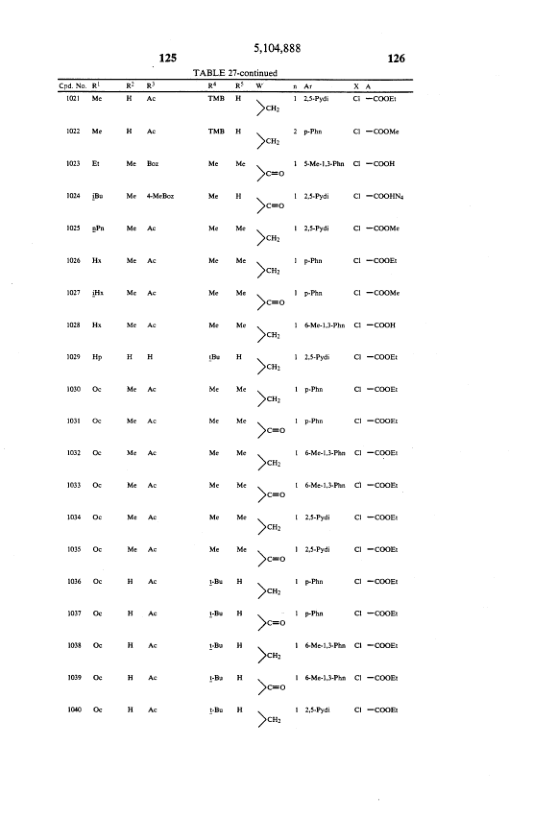compound-structure: (349, 601, 401, 620), (352, 701, 404, 718), (251, 548, 288, 571), (254, 675, 291, 698), (248, 161, 288, 182), (354, 382, 399, 399), (355, 478, 400, 495), (356, 638, 403, 654), (254, 578, 284, 603), (354, 415, 399, 431), (349, 192, 408, 204), (254, 514, 283, 538), (352, 449, 400, 463), (252, 483, 284, 504), (352, 512, 400, 526), (353, 670, 401, 684), (251, 224, 280, 247), (349, 95, 400, 108), (254, 131, 284, 153), (352, 255, 400, 268), (351, 350, 399, 363), (355, 574, 399, 588), (249, 99, 281, 118), (353, 319, 396, 333), (254, 612, 284, 632), (257, 642, 283, 665), (256, 422, 288, 440), (254, 295, 284, 314), (255, 196, 286, 214), (254, 450, 280, 471), (354, 545, 399, 557), (353, 288, 401, 299), (252, 262, 278, 282), (255, 389, 281, 409), (257, 707, 283, 727), (351, 158, 398, 169), (255, 359, 284, 375), (256, 326, 280, 345), (354, 225, 399, 235), (352, 128, 408, 135)
